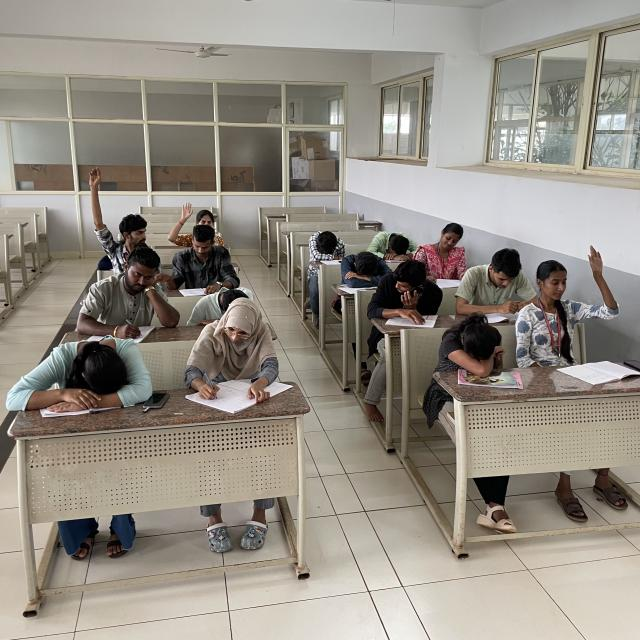Hand Rising: (519, 244, 618, 340), (83, 165, 158, 259), (168, 200, 223, 252)
Reading: (460, 244, 528, 322), (178, 226, 236, 299)
Sleeping: (6, 336, 148, 408), (440, 314, 505, 371), (192, 284, 259, 323), (336, 248, 394, 290), (373, 228, 419, 262), (310, 224, 344, 264)
Using Phone: (376, 264, 441, 311)
Writing: (188, 304, 279, 407), (78, 244, 169, 340), (417, 224, 475, 284)
